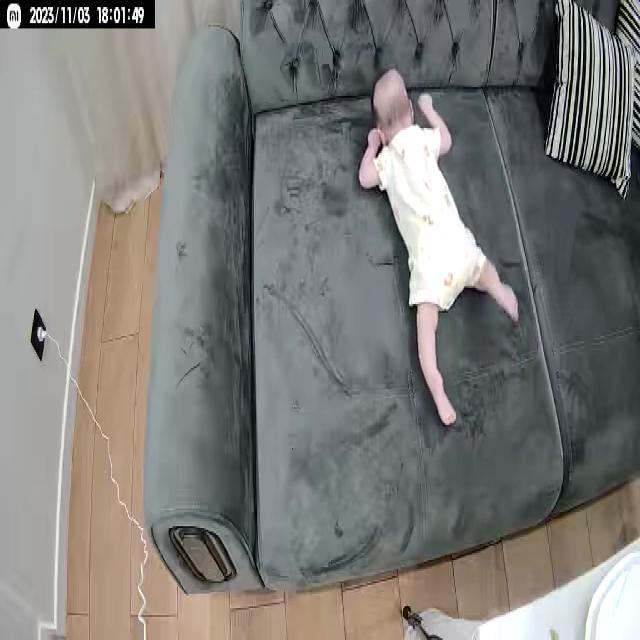baby: (358, 63, 521, 431)
